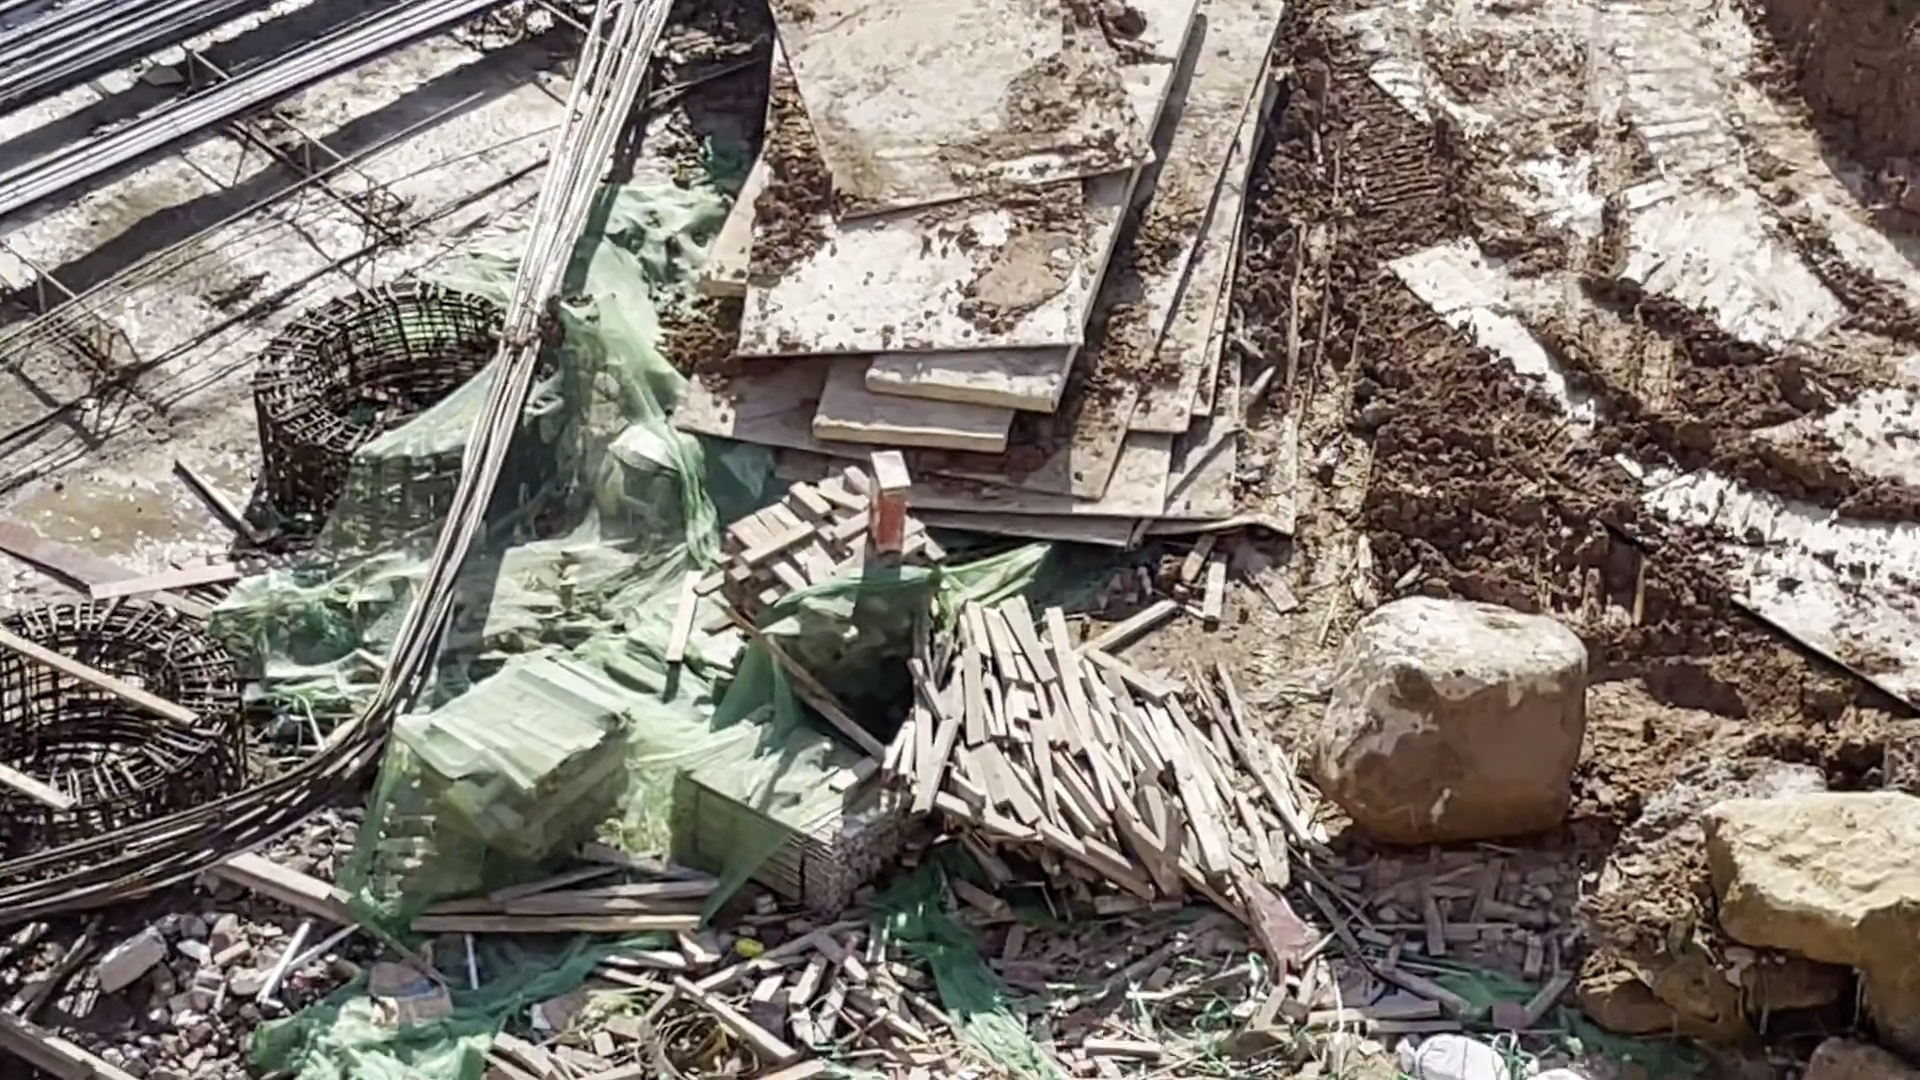board: (719, 1, 1304, 554)
rebar: (400, 1, 658, 727), (1, 1, 541, 225)
wood: (903, 607, 1279, 920), (415, 651, 629, 868), (669, 736, 903, 918)
